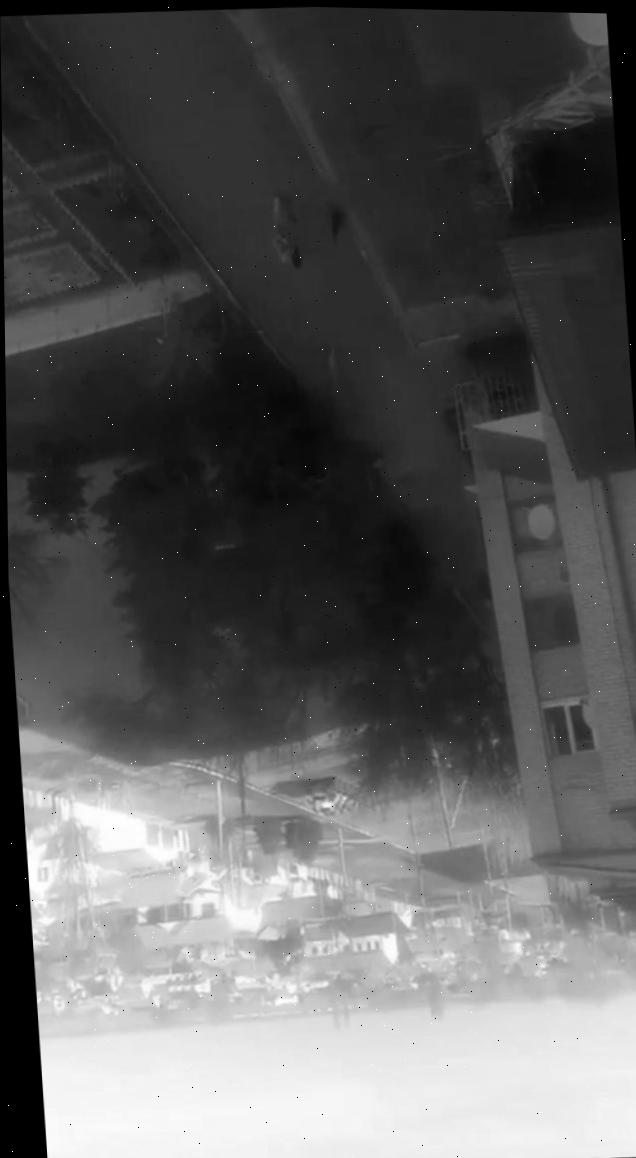person: (270, 193, 299, 264)
tank: (303, 774, 367, 820)
